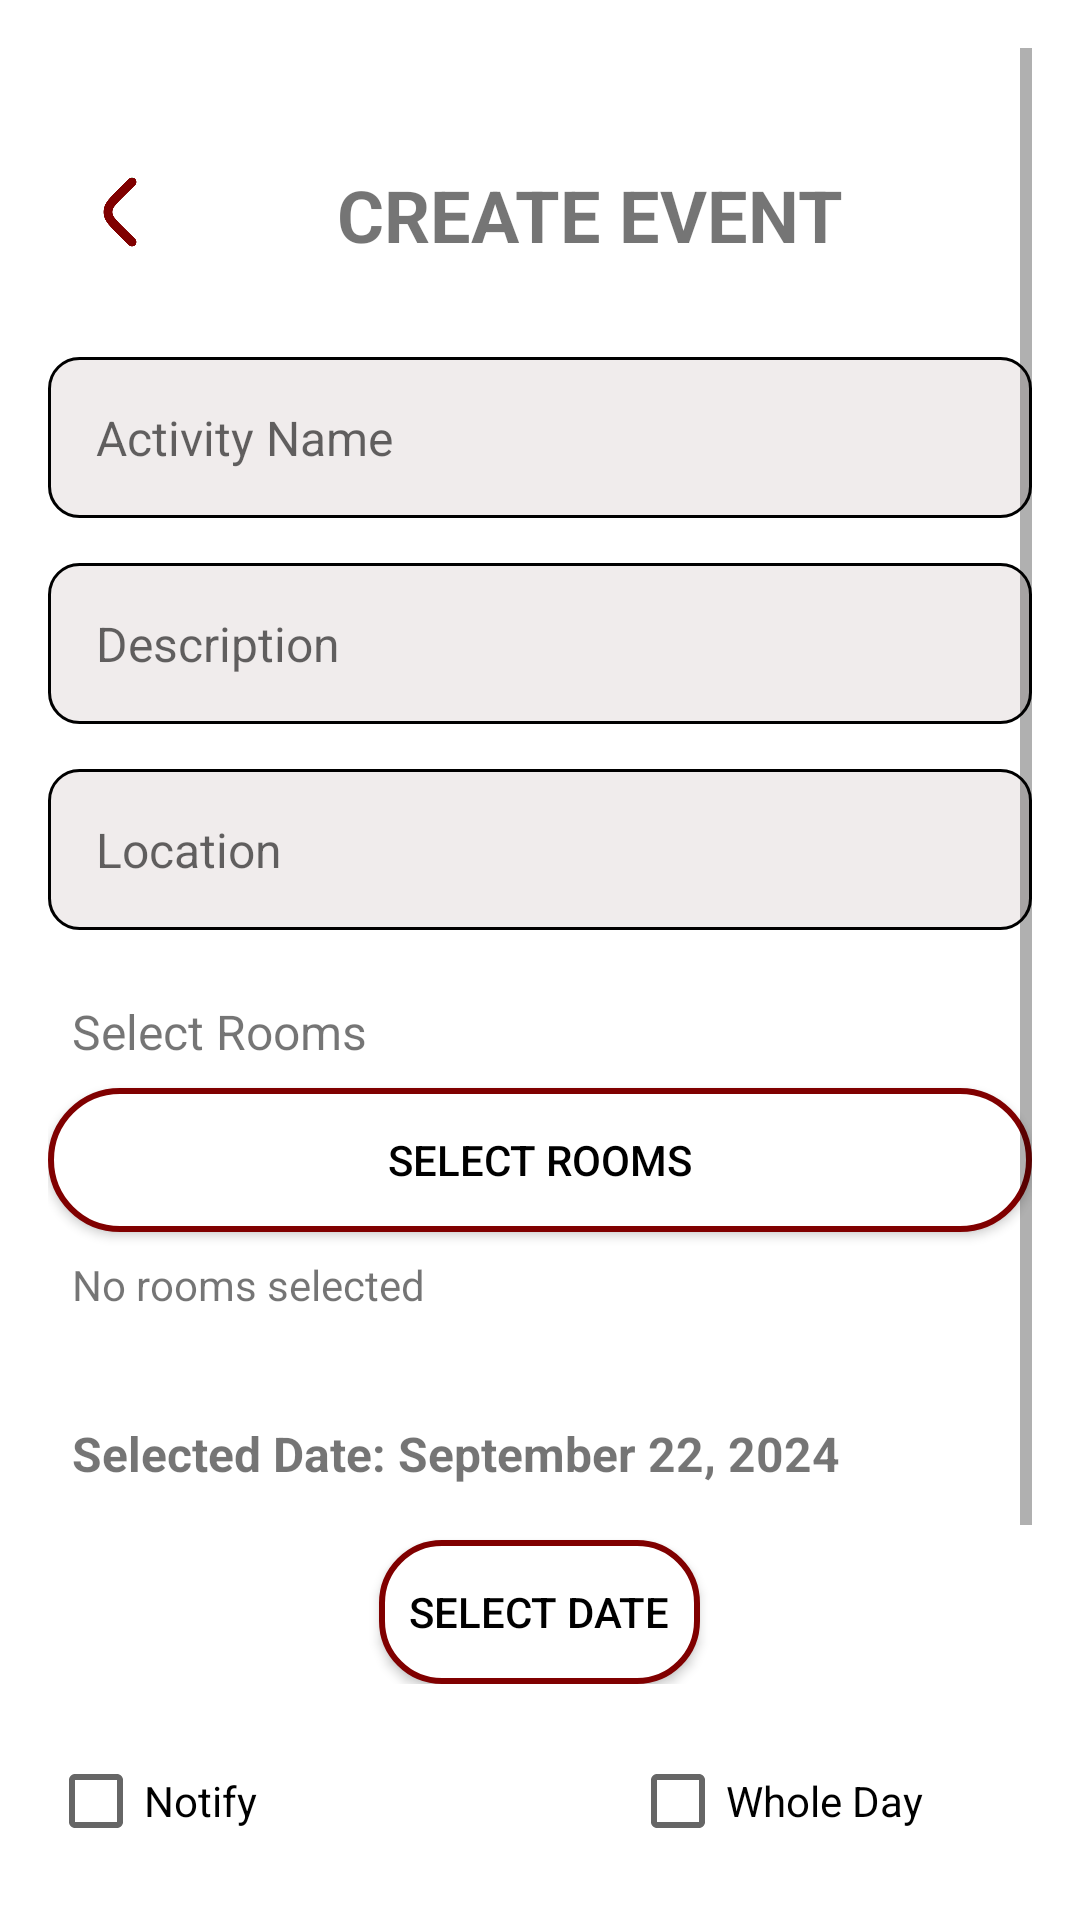

Icons on this 1080px x 1920px Android screen, each with its box as Rect(x1, y1, x2, y2):
back: Rect(103, 177, 137, 247)
